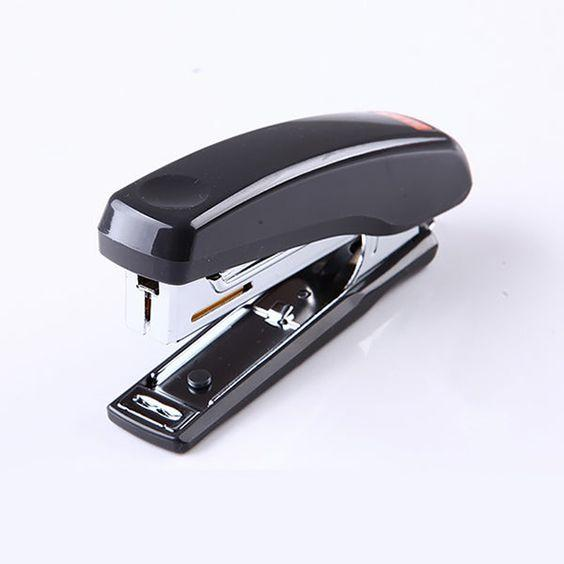Stapler: (85, 84, 482, 464)
